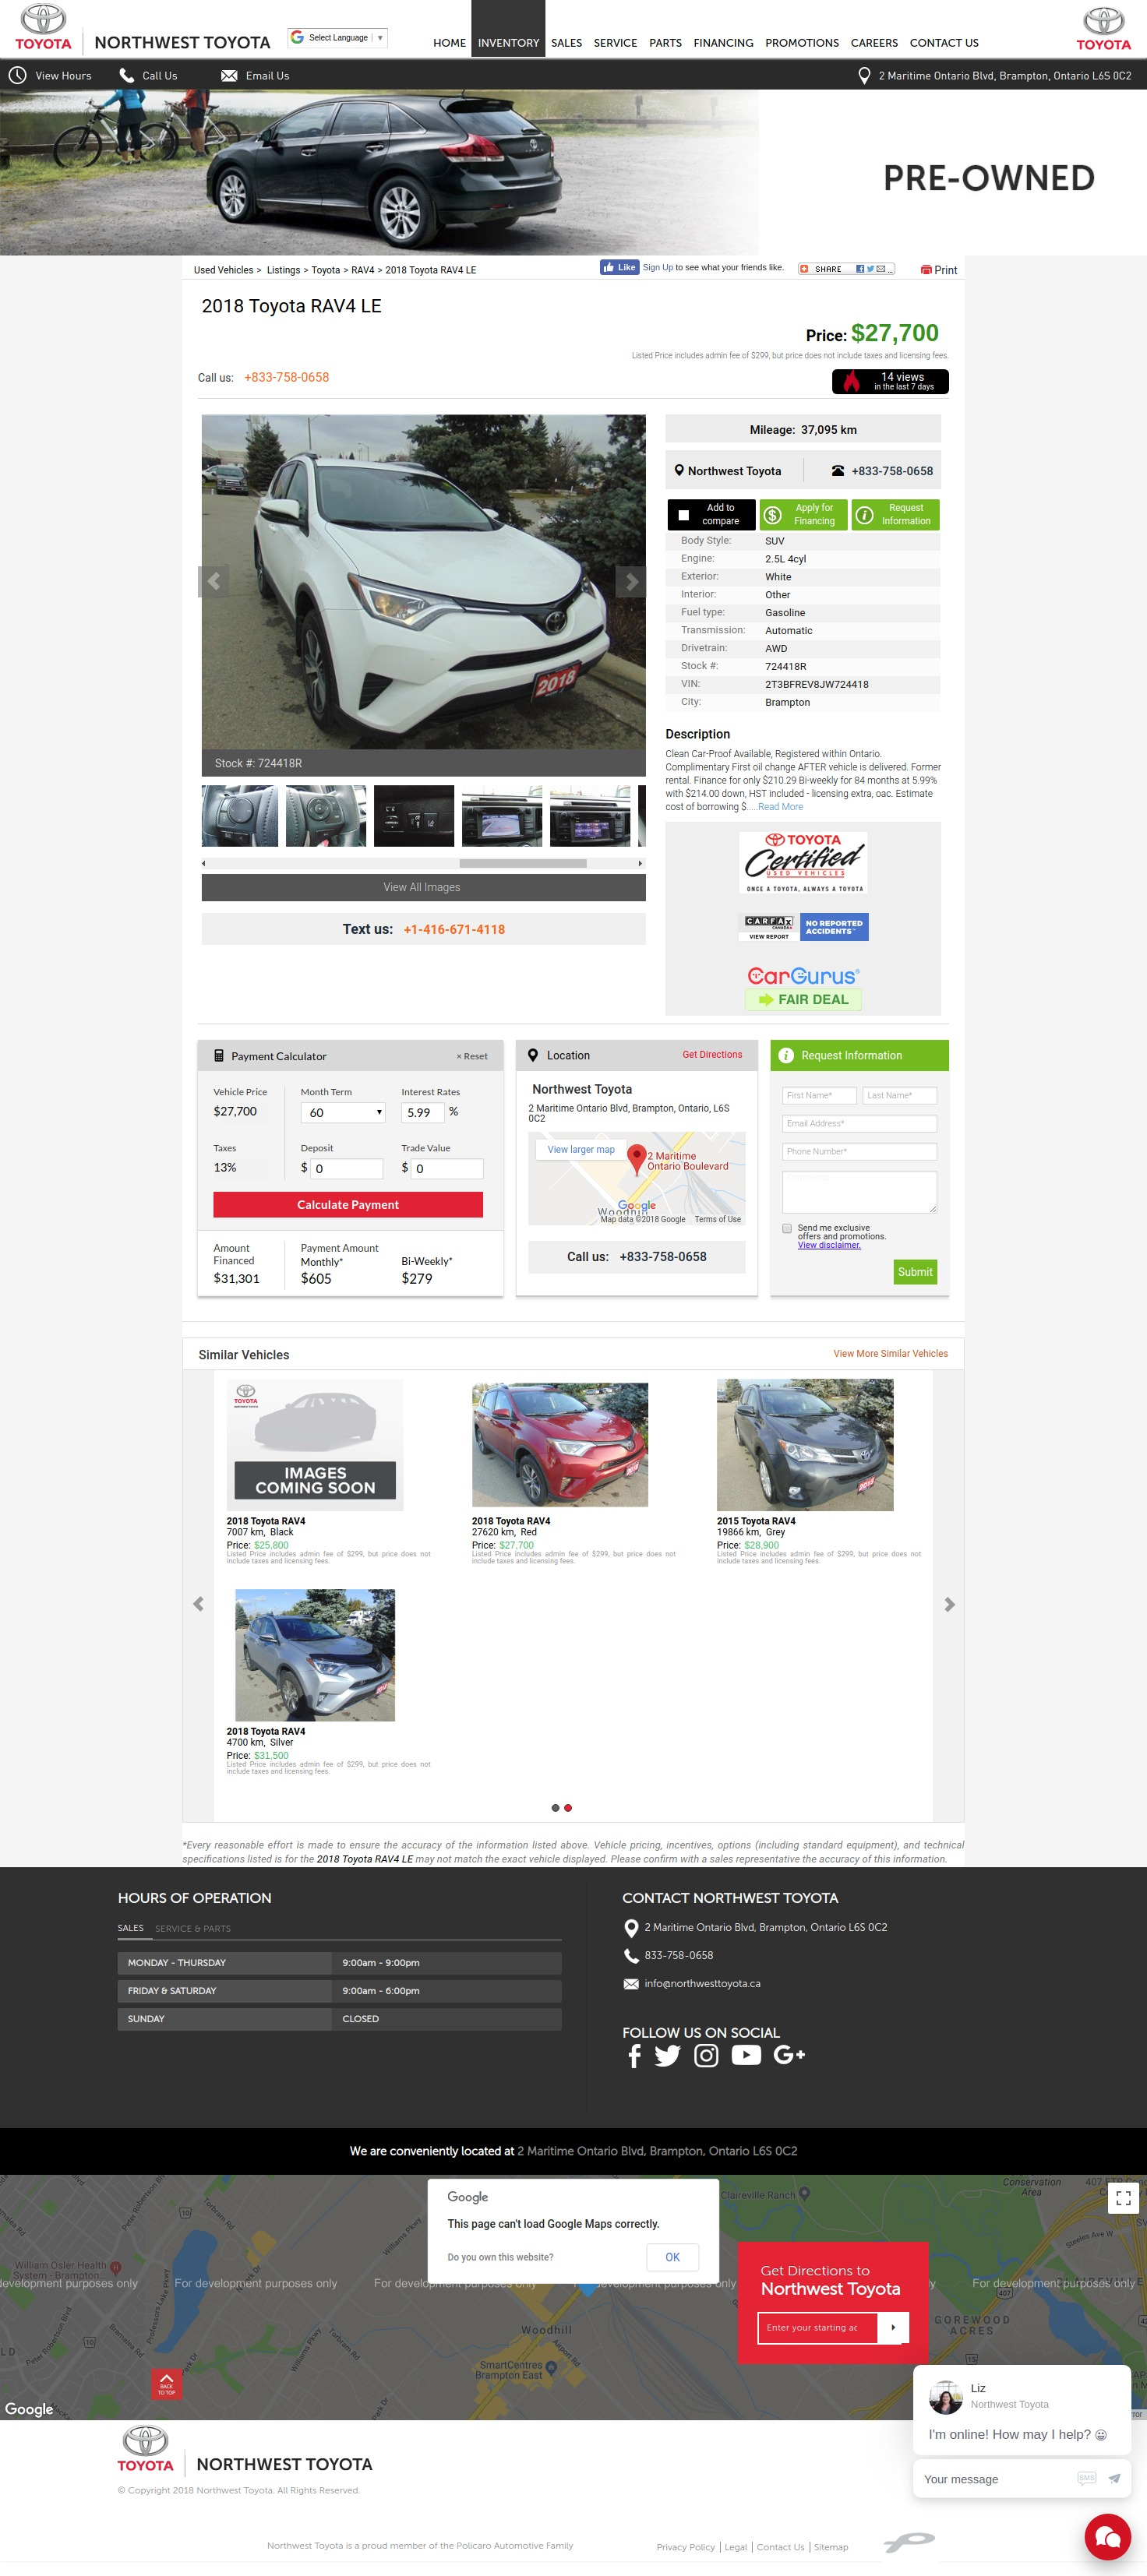car: (626, 573, 641, 591)
